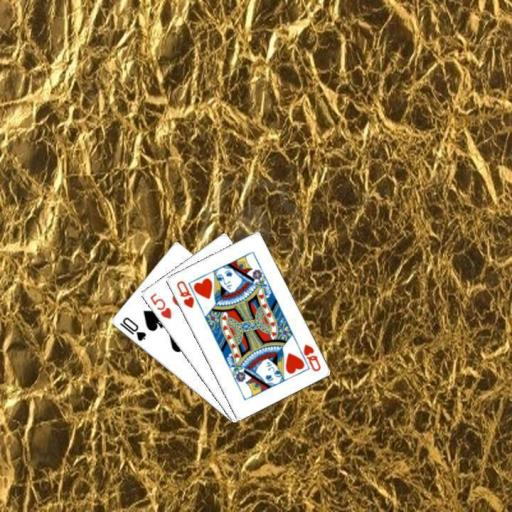card-corner: (293, 340, 322, 372), (116, 314, 147, 342), (146, 289, 173, 320), (172, 278, 196, 310)
